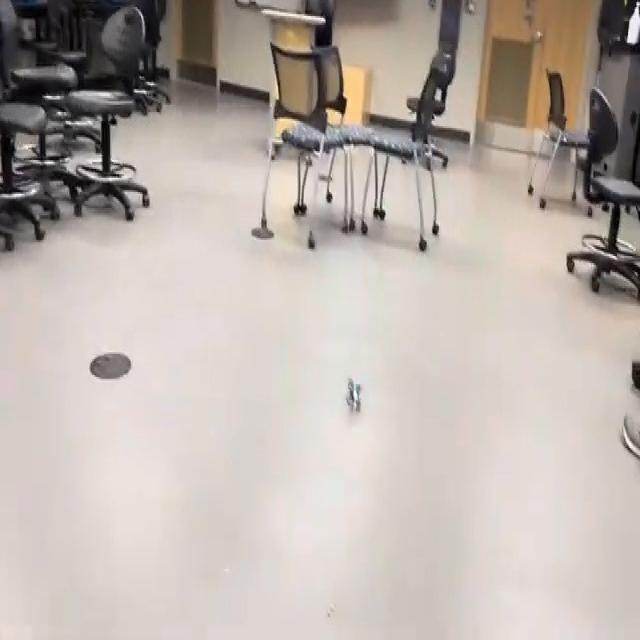drone: (334, 364, 370, 426)
